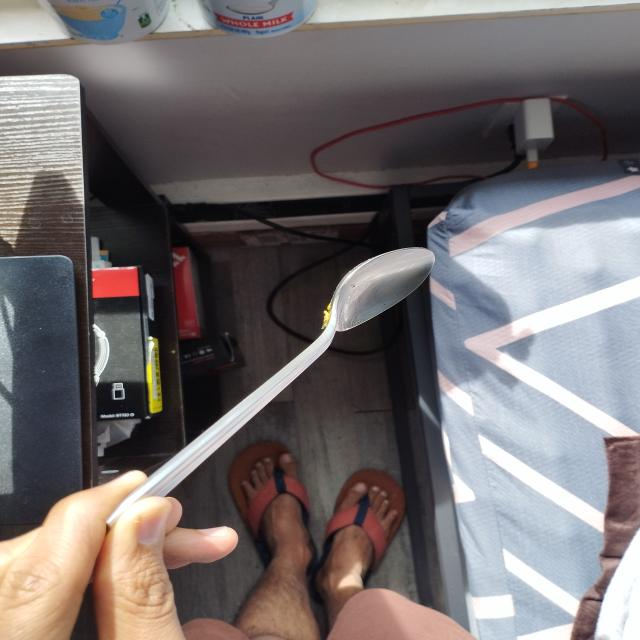Spoon: (103, 244, 451, 542)
